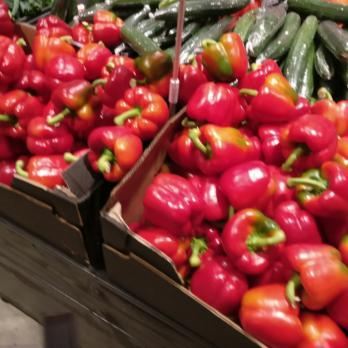Capsicum: (144, 84, 348, 283), (2, 16, 133, 172), (216, 287, 348, 348)
